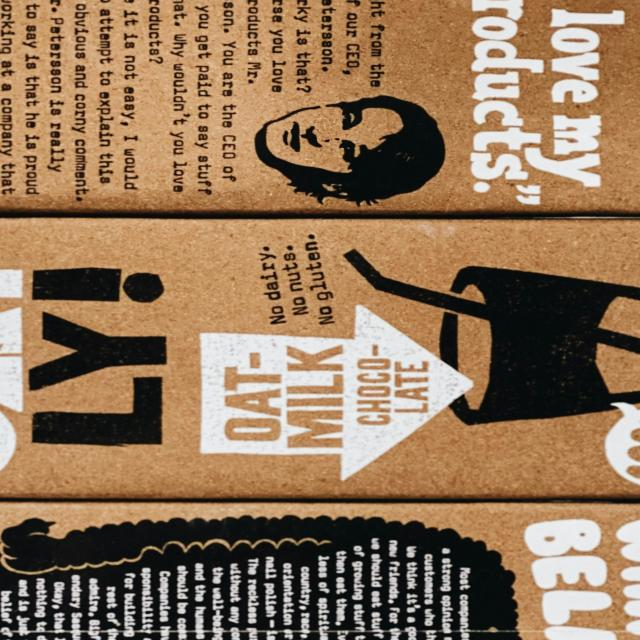milk: (0, 204, 640, 512), (0, 0, 640, 236), (0, 483, 640, 640)
